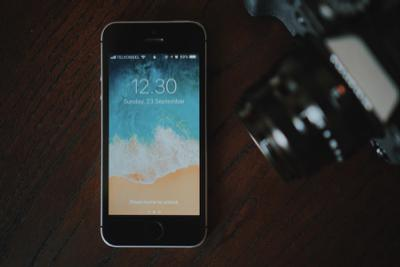cell-phone: (97, 18, 209, 250)
